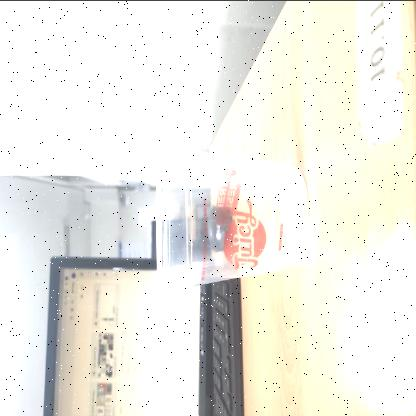Others: (154, 128, 310, 308)
